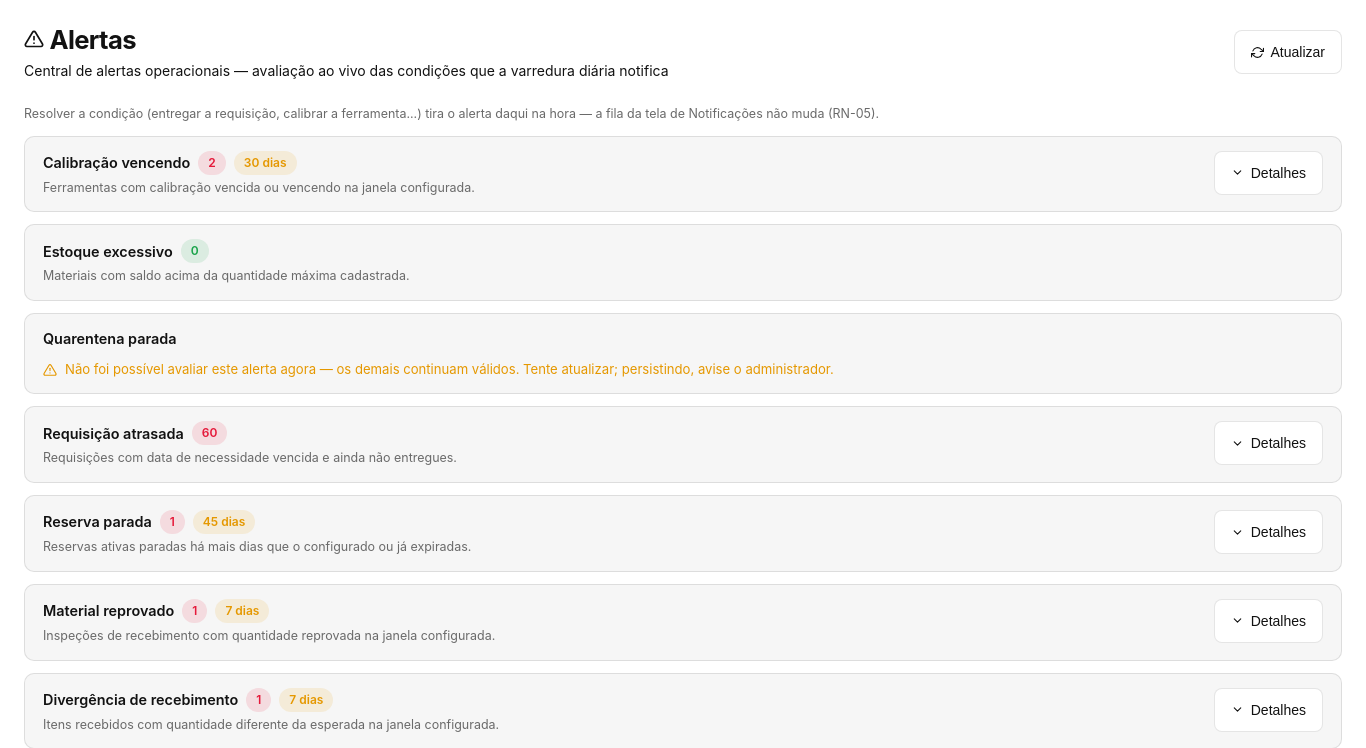
Test: data DATE pura formata em UTC — nunca o dia anterior no fuso do Brasil
Click the button "Detalhes" in the row of "30": point(1268, 173) [1214,151,1323,195]
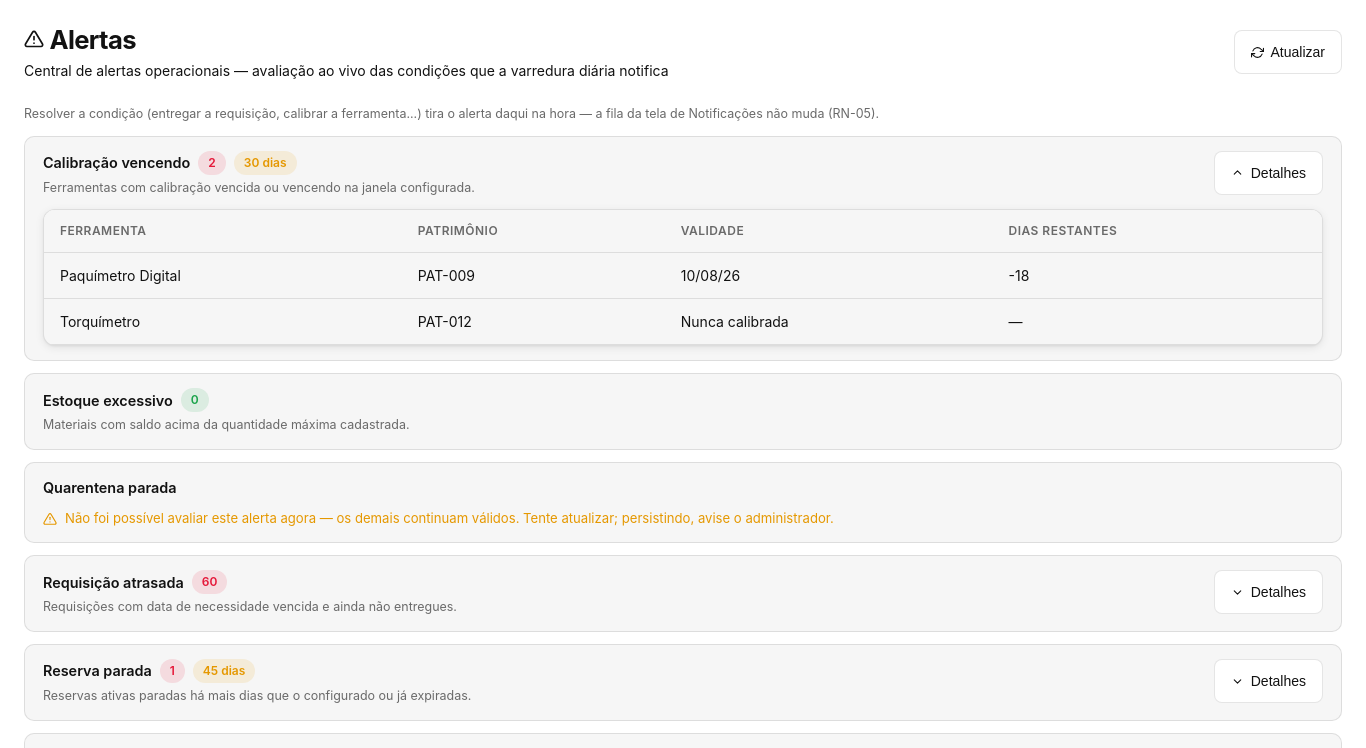
Result: the text "10/08/26" is shown at [665,253,993,299]
